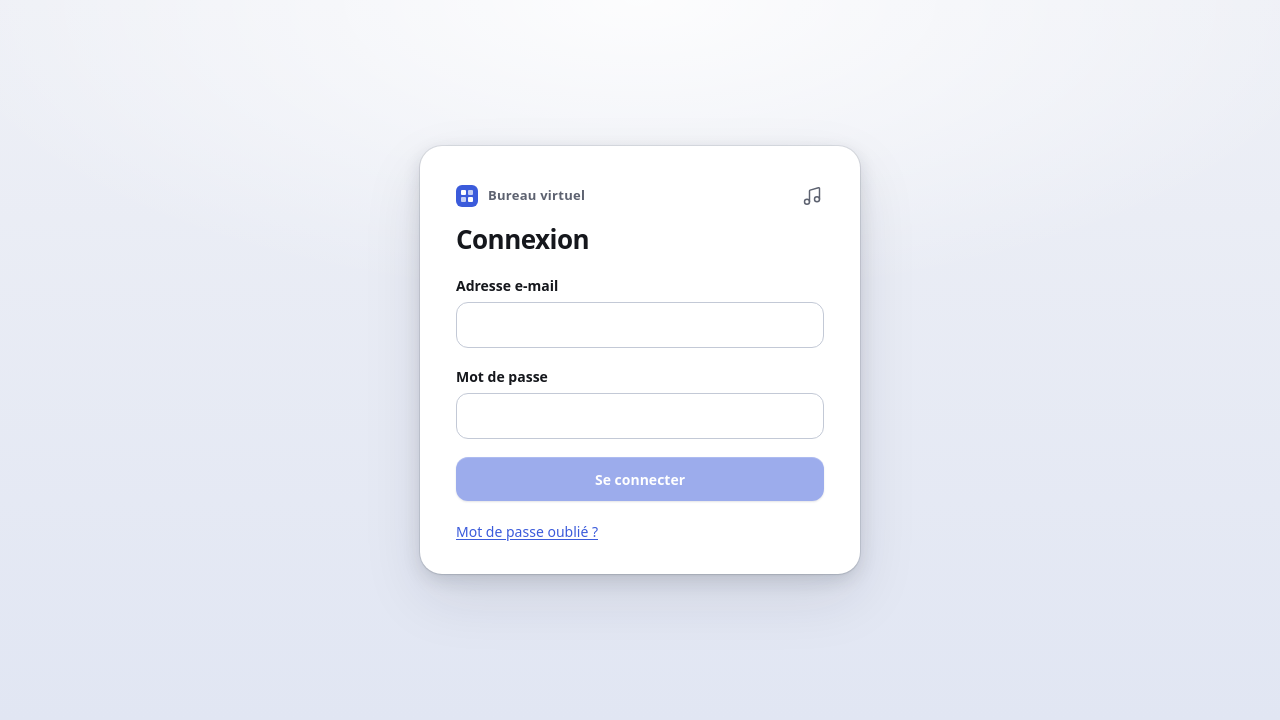
Test: refus {"status":403,"code":"ACCOUNT_DISABLED"} → message
Step 1. Type "lea@x.fr" into the field labelled "Adresse e-mail" → (640,325), box 456,302 -> 824,348
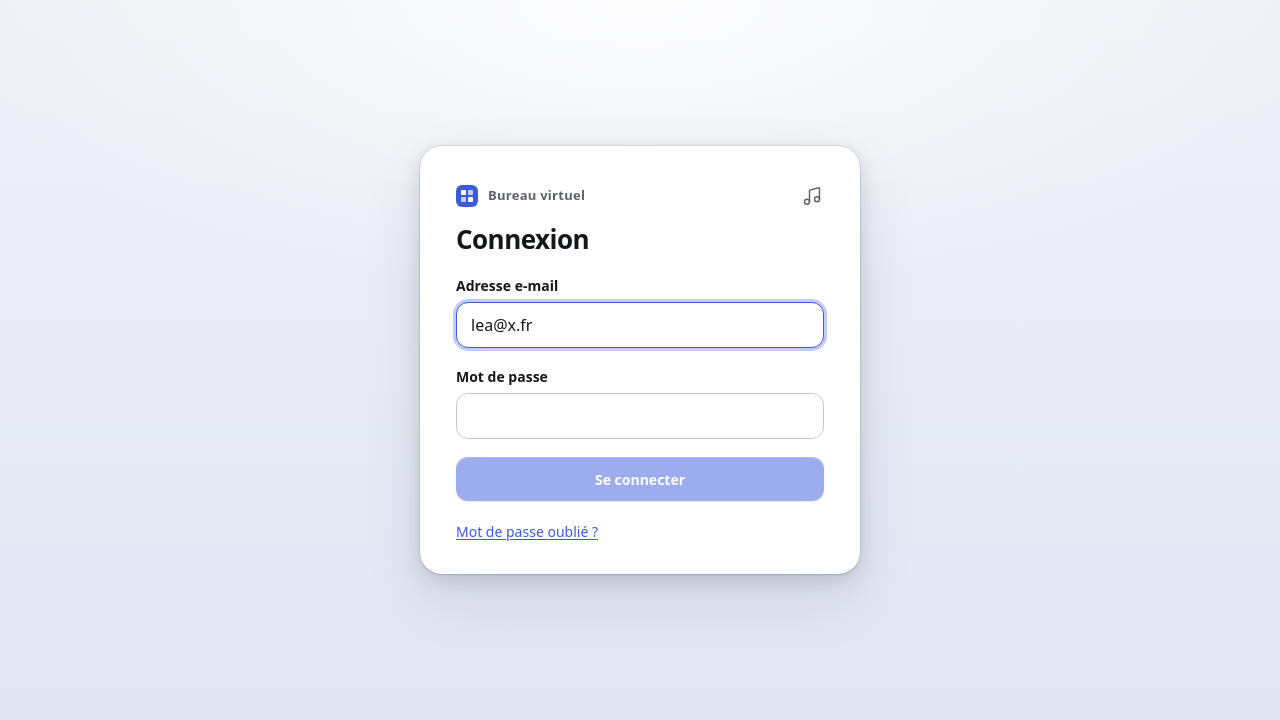
Step 2. Type "motdepasse1" into the password field labelled "Mot de passe" → (640,416), box 456,393 -> 824,439
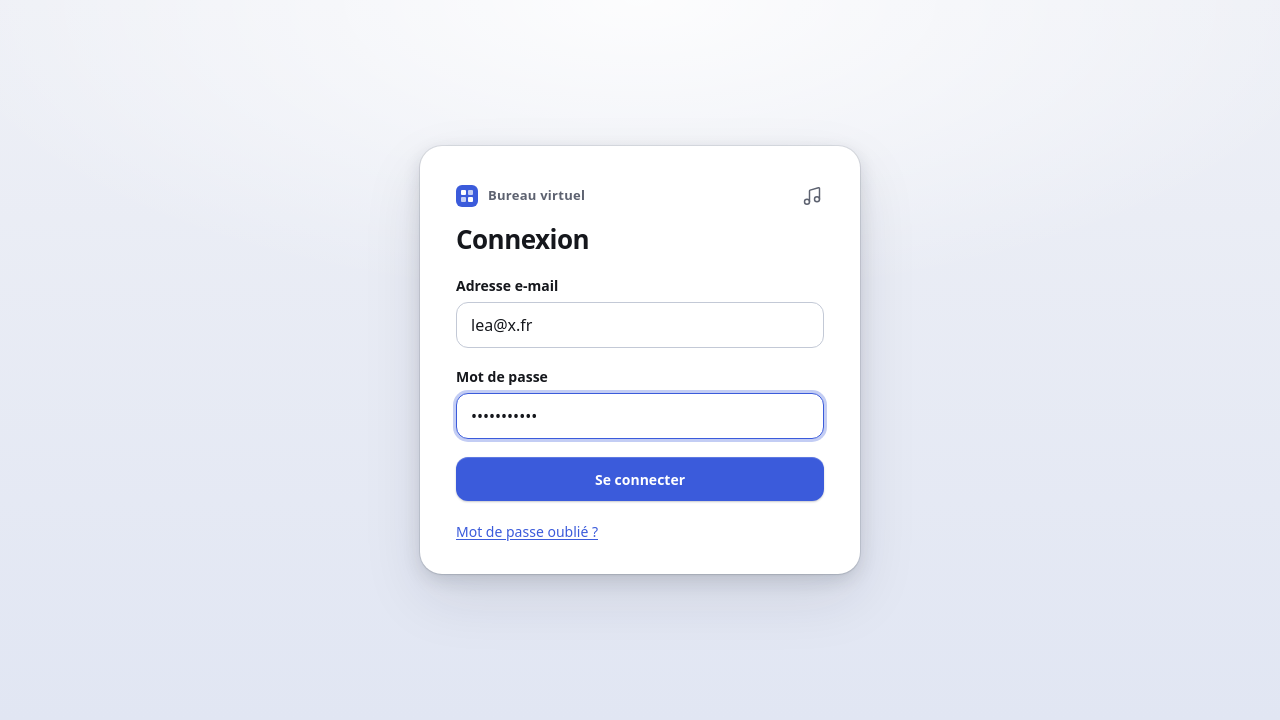
Step 3. Click the button "Se connecter" → (640,479), box 456,457 -> 824,501
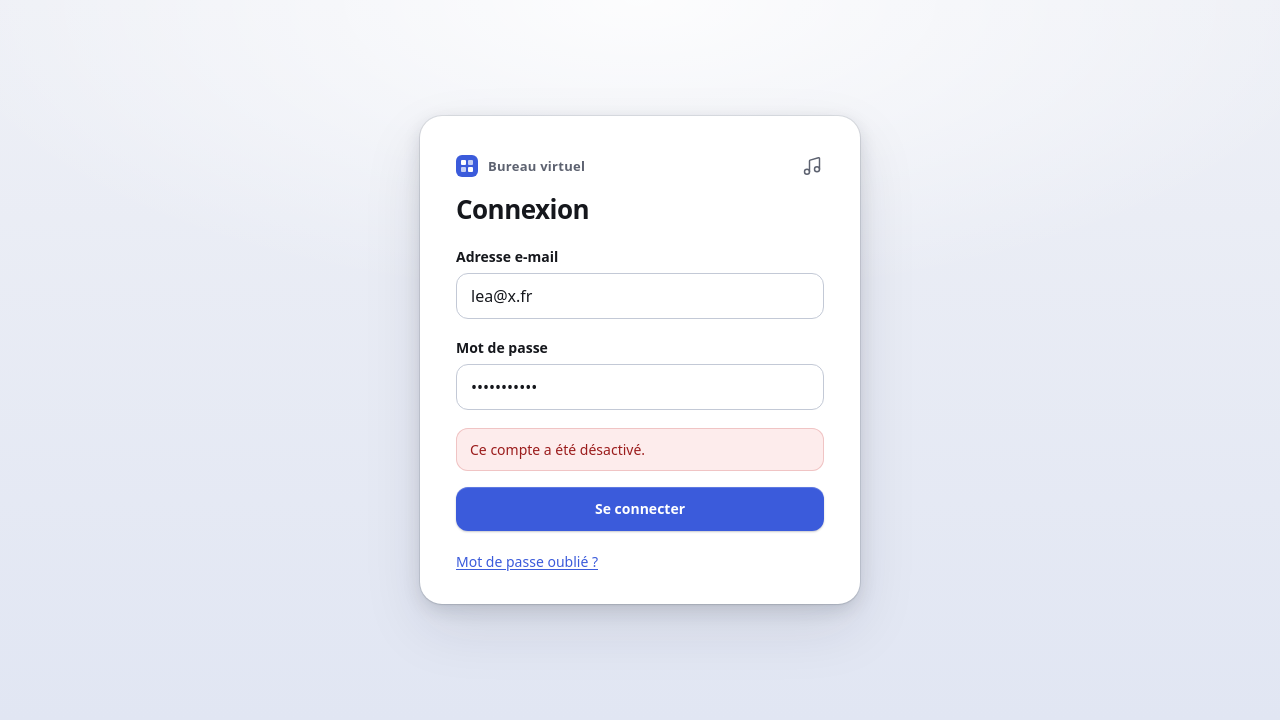
expect the message reads "Ce compte a été désactivé.": met, box 470,440 -> 645,459
